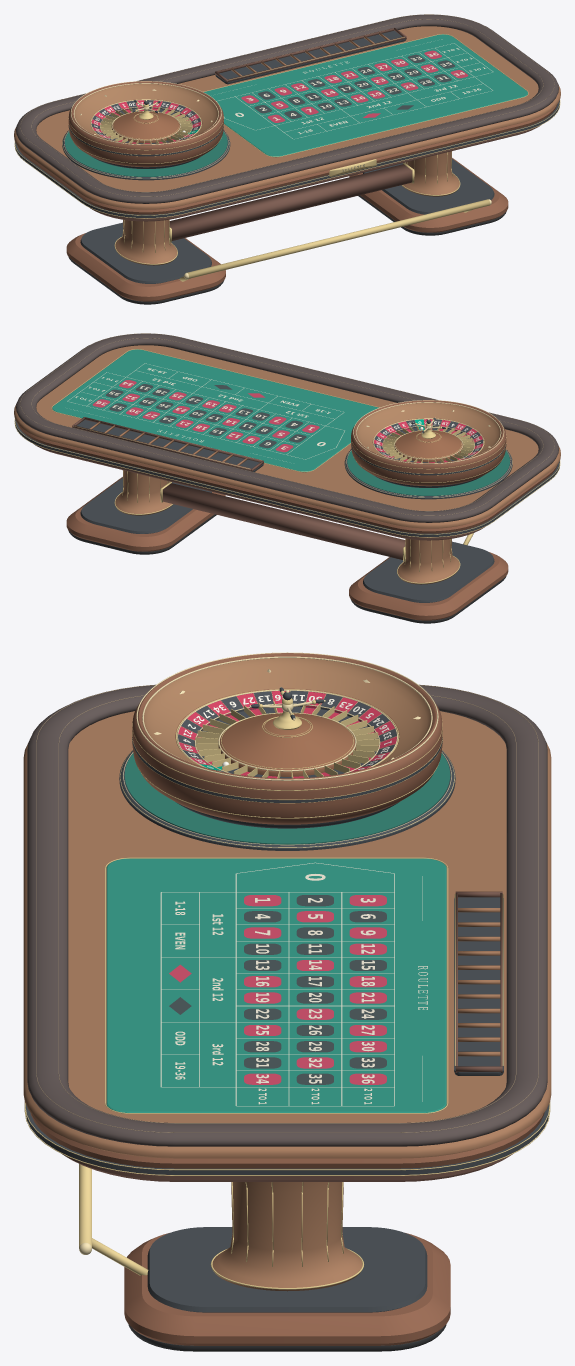
The model's file is roulette_table_with_wheel.glb.
3 views of the same model, one above another, from view 1: azimuth 30°, elevation 25°; view 2: azimuth 150°, elevation 25°; view 3: azimuth 270°, elevation 25° (orthographic). The views are drawn at different scales.
Parts seen in each view (by area): view 1: FeltInsert_Felt, PaddedRail_Leather, Tabletop_Walnut_Light, Underframe_Walnut_Dark, Base_Walnut_Exterior, Pedestal_Left_Ebony, Pedestal_Left_Walnut, BettingLayout_Ink_Cream, Base_Walnut_Bowl, Cabinet_Walnut, Pedestal_Right_Walnut, Pedestal_Right_Ebony (+26 smaller); view 2: FeltInsert_Felt, PaddedRail_Leather, Tabletop_Walnut_Light, Underframe_Walnut_Dark, Base_Walnut_Exterior, Pedestal_Left_Ebony, Pedestal_Left_Walnut, BettingLayout_Ink_Cream, Cabinet_Walnut, Base_Walnut_Bowl, Pedestal_Right_Walnut, Pedestal_Right_Ebony (+24 smaller); view 3: FeltInsert_Felt, Tabletop_Walnut_Light, PaddedRail_Leather, Base_Walnut_Exterior, Pedestal_Right_Ebony, Pedestal_Right_Walnut, Pedestal_Right_Walnut_Light, Base_Walnut_Bowl, BettingLayout_Ink_Cream, BettingLayout_Ink_Red, WheelPlatform_Felt_Dark, BettingLayout_Ink_Black (+21 smaller).
Part boxes in pixels (<box>): FeltInsert_Felt: <box>204,34,527,156</box>; PaddedRail_Leather: <box>16,14,558,203</box>; Tabletop_Walnut_Light: <box>14,26,560,209</box>; Underframe_Walnut_Dark: <box>169,164,412,240</box>; Base_Walnut_Exterior: <box>68,81,223,167</box>; Pedestal_Left_Ebony: <box>80,222,211,283</box>; Pedestal_Left_Walnut: <box>66,233,225,301</box>; BettingLayout_Ink_Cream: <box>216,39,493,139</box>; Base_Walnut_Bowl: <box>74,83,217,137</box>; Cabinet_Walnut: <box>17,104,557,218</box>; Pedestal_Right_Walnut: <box>349,158,508,232</box>; Pedestal_Right_Ebony: <box>363,159,494,214</box>; FeltInsert_Felt: <box>52,349,378,471</box>; PaddedRail_Leather: <box>16,333,558,522</box>; Tabletop_Walnut_Light: <box>14,345,560,528</box>; Underframe_Walnut_Dark: <box>162,483,405,559</box>; Base_Walnut_Exterior: <box>351,400,506,486</box>; Pedestal_Left_Ebony: <box>363,541,494,602</box>; Pedestal_Left_Walnut: <box>349,552,508,620</box>; BettingLayout_Ink_Cream: <box>67,363,344,461</box>; Cabinet_Walnut: <box>17,423,557,537</box>; Base_Walnut_Bowl: <box>357,402,500,456</box>; Pedestal_Right_Walnut: <box>66,477,225,551</box>; Pedestal_Right_Ebony: <box>80,478,211,533</box>; FeltInsert_Felt: <box>106,858,446,1113</box>; Tabletop_Walnut_Light: <box>23,711,551,1158</box>; PaddedRail_Leather: <box>27,685,547,1146</box>; Base_Walnut_Exterior: <box>132,653,442,824</box>; Pedestal_Right_Ebony: <box>147,1227,427,1312</box>; Pedestal_Right_Walnut: <box>124,1233,450,1345</box>; Pedestal_Right_Walnut_Light: <box>212,1182,362,1291</box>; Base_Walnut_Bowl: <box>144,658,430,765</box>; BettingLayout_Ink_Cream: <box>160,862,427,1106</box>; BettingLayout_Ink_Red: <box>169,895,386,1084</box>; WheelPlatform_Felt_Dark: <box>124,753,450,844</box>; BettingLayout_Ink_Black: <box>169,895,386,1084</box>.
Bounding box in the file's own units: 3.5 × 1.2 × 1.7.
